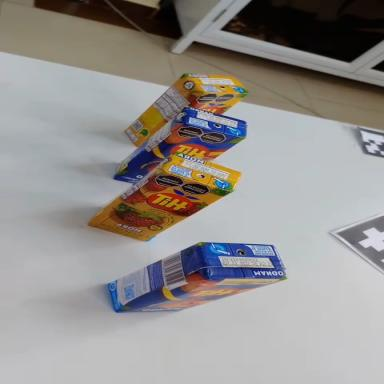HIT-MANGO: (102, 222, 288, 329), (103, 84, 253, 211)
HIT-MORA: (79, 129, 246, 262), (114, 55, 252, 149)
cara_F: (81, 145, 232, 263), (111, 101, 245, 212), (114, 256, 285, 330), (191, 92, 248, 116)
